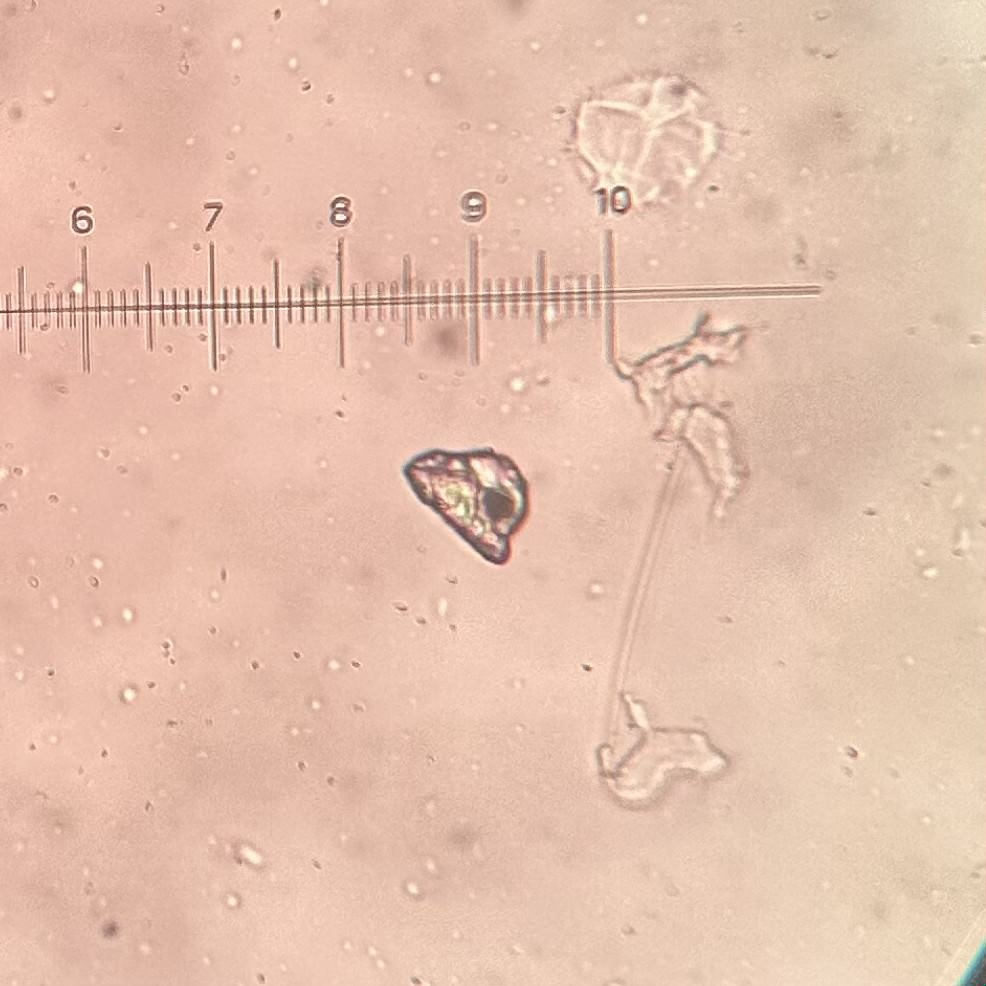not_microplastic: (623, 314, 756, 514), (575, 74, 726, 195), (598, 692, 739, 804), (401, 447, 531, 566)
